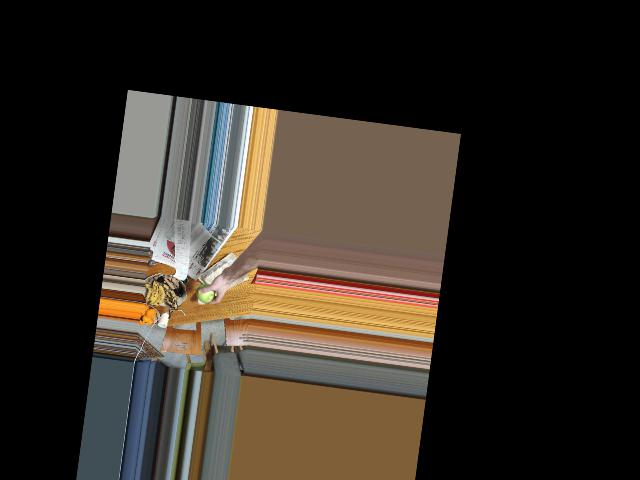apple: (195, 278, 219, 306)
